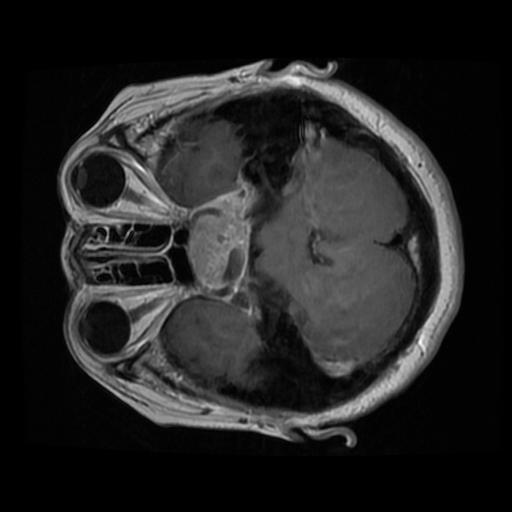pituitary tumour: (190, 198, 247, 286)
